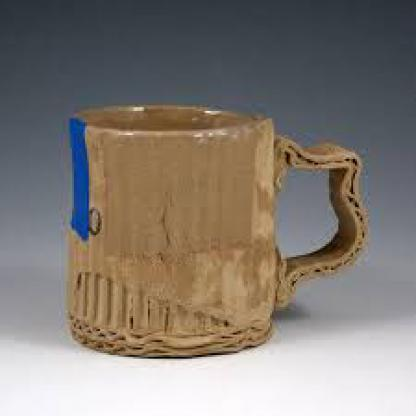CARDBOARD: (67, 103, 364, 357)
